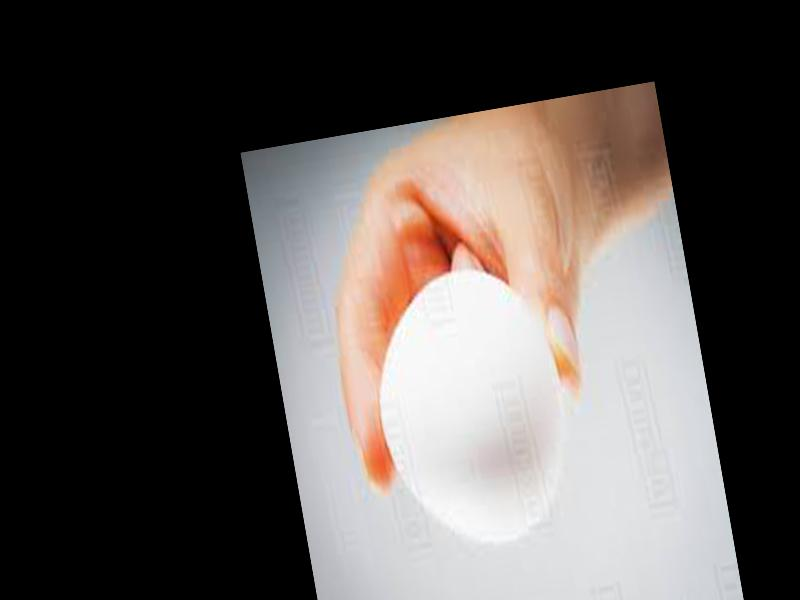Eggs: (359, 268, 583, 555)
